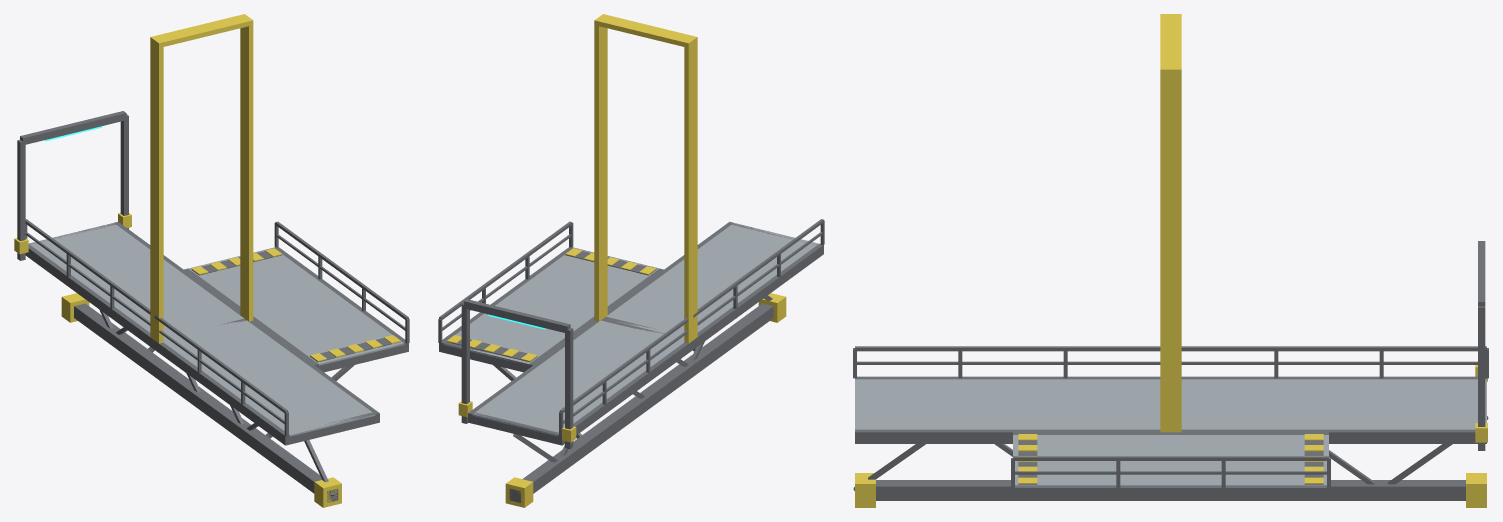
Rendered from scaffold_laser_choke_g08.glb.
3 renders of one model, left to right at view 1: azimuth 30°, elevation 25°; view 2: azimuth 150°, elevation 25°; view 3: azimuth 270°, elevation 25°, orthographic. The views are drawn at different scales.
Visible parts, largest first — view 1: Deck_b, Deck_s, Deck_a, Spine, BulkheadJamb_-1, BulkheadJamb_1, Frame_b_-1, Frame_a_-1, BulkheadLintel, PortalLintel, PortalPost_-1, Header_b_1 (+14 smaller); view 2: Deck_a, Deck_b, Deck_s, Spine, BulkheadJamb_-1, BulkheadJamb_1, Frame_b_-1, Frame_a_-1, BulkheadLintel, PortalLintel, Header_a_0, PortalPost_-1 (+14 smaller); view 3: Deck_b, Deck_a, Deck_s, BulkheadJamb_1, Spine, Frame_s_1, Frame_b_1, Frame_a_1, Rail_b_-1, Rail_a_-1, Rail_s_1, MidRail_s_1 (+9 smaller).
Boxes of the visible parts, bbox=[...] form: Deck_b: bbox=[163, 320, 375, 436]; Deck_s: bbox=[188, 248, 404, 365]; Deck_a: bbox=[29, 223, 243, 337]; Spine: bbox=[74, 303, 338, 502]; BulkheadJamb_-1: bbox=[150, 36, 163, 343]; BulkheadJamb_1: bbox=[240, 14, 253, 321]; Frame_b_-1: bbox=[154, 341, 289, 445]; Frame_a_-1: bbox=[25, 244, 151, 347]; BulkheadLintel: bbox=[151, 14, 252, 46]; PortalLintel: bbox=[20, 111, 126, 144]; PortalPost_-1: bbox=[17, 139, 25, 260]; Header_b_1: bbox=[283, 411, 378, 444]; Deck_a: bbox=[472, 320, 684, 436]; Deck_b: bbox=[606, 223, 818, 337]; Deck_s: bbox=[443, 247, 659, 365]; Spine: bbox=[509, 303, 773, 502]; BulkheadJamb_-1: bbox=[684, 36, 697, 343]; BulkheadJamb_1: bbox=[594, 14, 607, 321]; Frame_b_-1: bbox=[693, 243, 823, 349]; Frame_a_-1: bbox=[558, 342, 690, 445]; BulkheadLintel: bbox=[594, 14, 697, 47]; PortalLintel: bbox=[464, 299, 570, 333]; Header_a_0: bbox=[468, 411, 562, 445]; PortalPost_-1: bbox=[565, 328, 573, 448]; Deck_b: bbox=[855, 379, 1160, 429]; Deck_a: bbox=[1181, 379, 1486, 429]; Deck_s: bbox=[1013, 435, 1328, 485]; BulkheadJamb_1: bbox=[1160, 67, 1181, 432]; Spine: bbox=[876, 480, 1465, 500]; Frame_s_1: bbox=[1013, 485, 1326, 499]; Frame_b_1: bbox=[855, 429, 1160, 443]; Frame_a_1: bbox=[1181, 429, 1477, 443]; Rail_b_-1: bbox=[855, 346, 1160, 351]; Rail_a_-1: bbox=[1181, 346, 1486, 351]; Rail_s_1: bbox=[1013, 456, 1328, 460]; MidRail_s_1: bbox=[1015, 471, 1326, 474].
Size of the model in its own units: 5.24 by 9.65 by 12.07.
